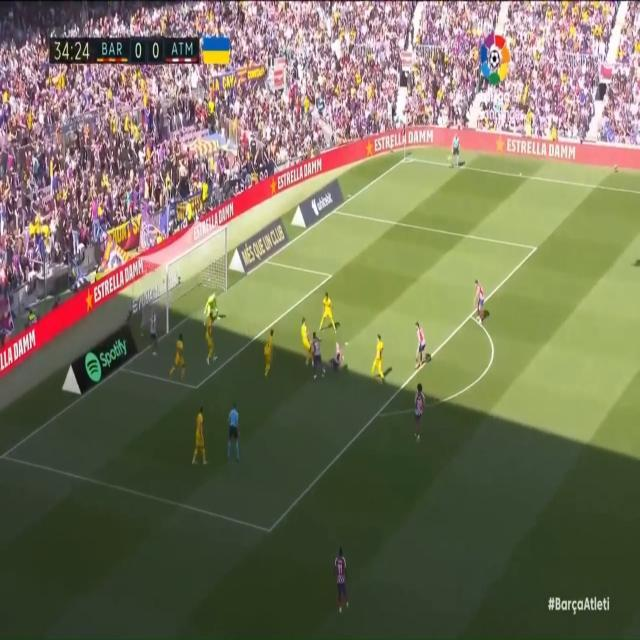goalkeeper: (191, 287, 217, 337)
player: (330, 539, 355, 628), (191, 403, 209, 478), (407, 373, 424, 451), (368, 331, 390, 386), (260, 319, 279, 379), (473, 267, 490, 331), (319, 282, 337, 339), (299, 310, 316, 370), (309, 326, 325, 386), (416, 309, 431, 370), (172, 328, 188, 384), (205, 310, 220, 369), (147, 301, 160, 361), (329, 342, 346, 382)
referee: (224, 402, 245, 469), (449, 129, 466, 173)
